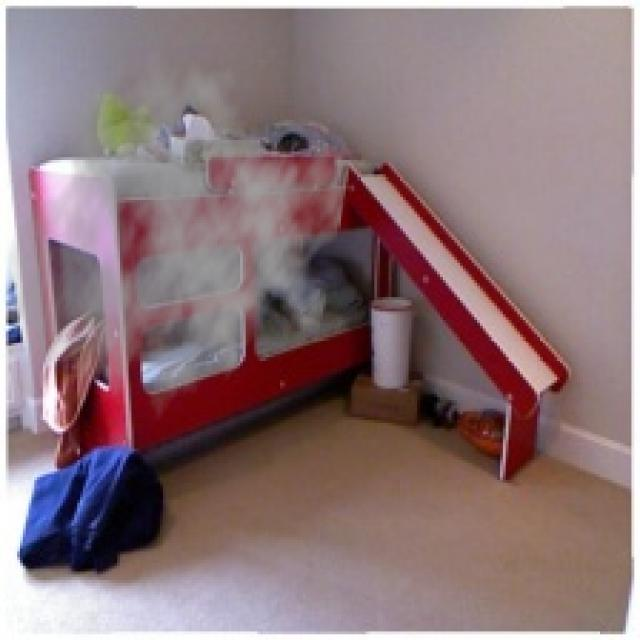smoke: (3, 46, 354, 437)
